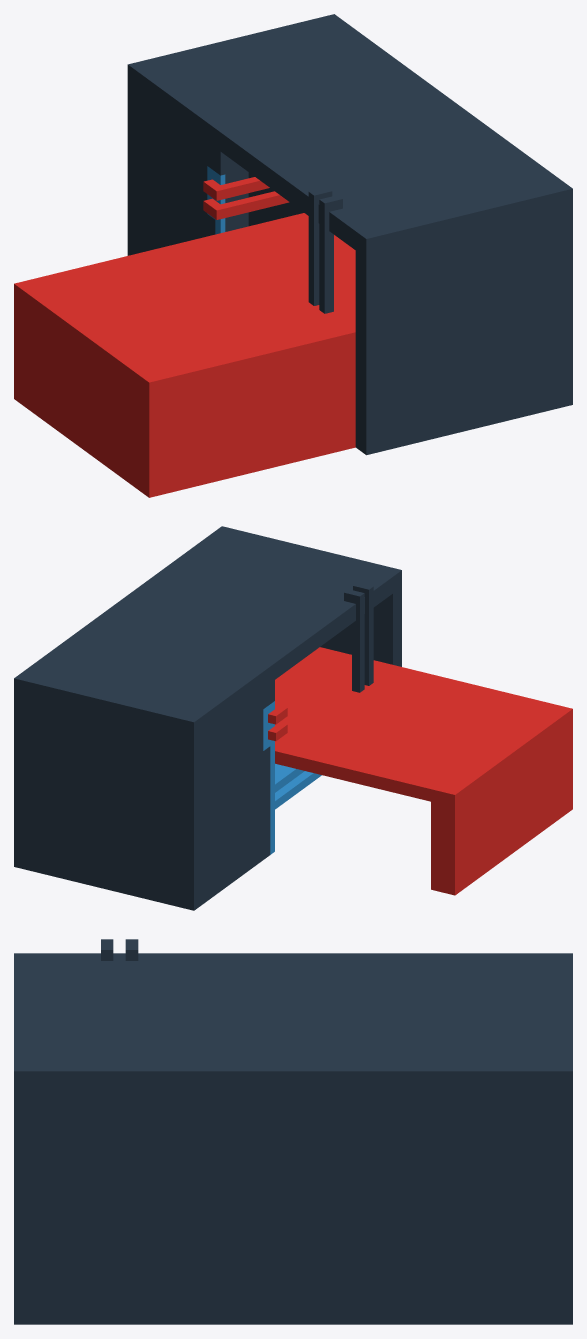
The model's file is home1.obj.
3 views of the same model, one above another, from view 1: azimuth 30°, elevation 25°; view 2: azimuth 150°, elevation 25°; view 3: azimuth 270°, elevation 25° (orthographic). The views are drawn at different scales.
Bounding box in the file's own units: 90 × 47 × 90.
1 material, 1 textured.
